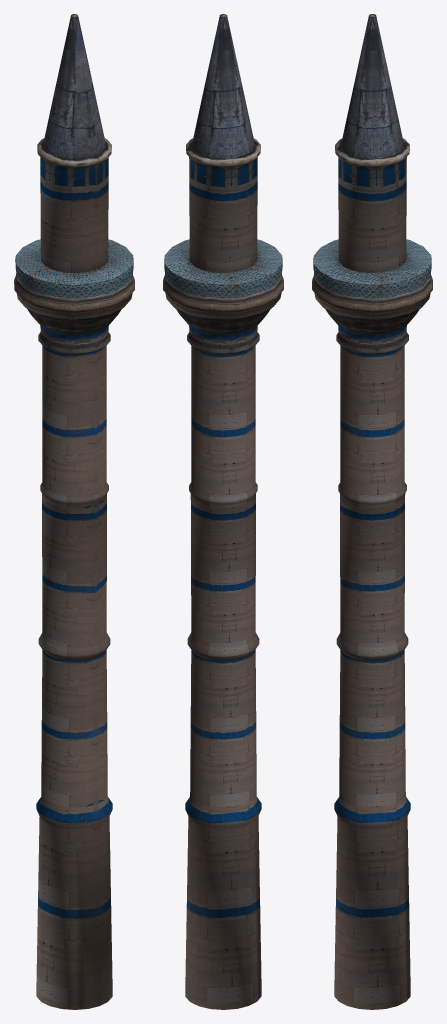
The model's file is building22.dae.
The picture shows the model from 3 angles, left to right: view 1: azimuth 90°, elevation 25°; view 2: azimuth 150°, elevation 25°; view 3: azimuth 330°, elevation 25°; orthographic projection.
Parts seen in each view (by area): view 1: meshU3D; view 2: meshU3D; view 3: meshU3D.
Part boxes in pixels (left/top/right/bottom): meshU3D: left=14, top=14, right=134, bottom=1009; meshU3D: left=163, top=14, right=283, bottom=1009; meshU3D: left=312, top=14, right=432, bottom=1009.
Bounding box in the file's own units: 141 × 1244 × 139.
